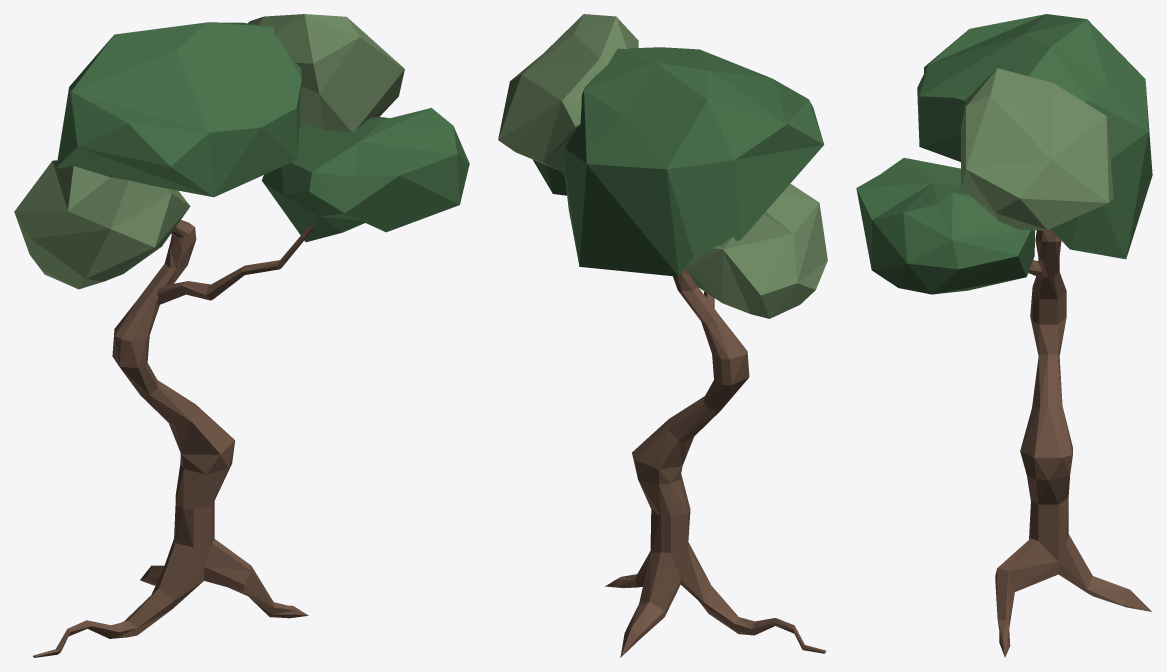
The model's file is _tree_9.fbx.
The picture shows the model from 3 angles, left to right: view 1: azimuth 30°, elevation 25°; view 2: azimuth 150°, elevation 25°; view 3: azimuth 270°, elevation 25°; orthographic projection. The views are drawn at different scales.
Visible parts, largest first — view 1: tree_9; view 2: tree_9; view 3: tree_9.
Part boxes in pixels (x1=…): tree_9: x1=14, y1=14, x2=469, y2=657; tree_9: x1=498, y1=14, x2=827, y2=657; tree_9: x1=856, y1=14, x2=1152, y2=657.
Bounding box in the file's own units: 342 × 540 × 247.
